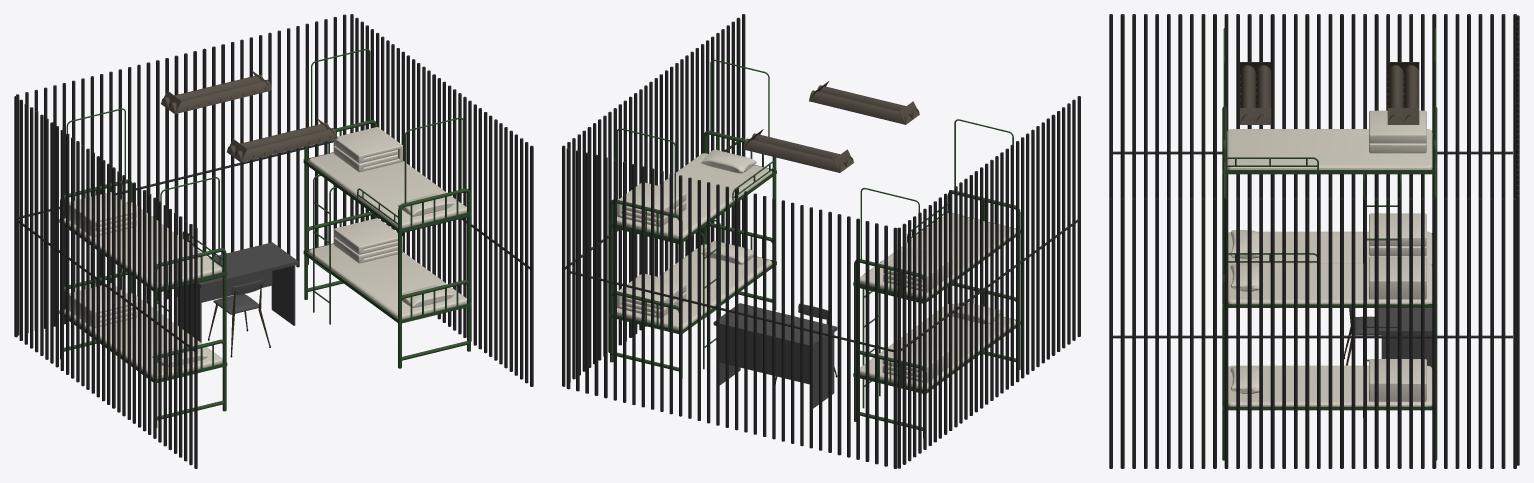
File: jianyv.FBX
3 renders of one model, left to right at view 1: azimuth 30°, elevation 25°; view 2: azimuth 150°, elevation 25°; view 3: azimuth 270°, elevation 25°, orthographic. The views are drawn at different scales.
Visible parts, largest first — view 1: jianyu2:pCylinder72, jianyu2:pCylinder73, jianyu2:pCylinder71, jianyu2:1 (×4), jianyu2:polySurface230, jianyu2:polySurface238, jianyu2:polySurface228, jianyu2:polySurface242, jianyu2:polySurface241, jianyu2:polySurface226, jianyu2:polySurface240, jianyu2:polySurface216 (+1 smaller); view 2: jianyu2:pCylinder71, jianyu2:pCylinder72, jianyu2:pCylinder73, jianyu2:1 (×4), jianyu2:polySurface238, jianyu2:polySurface230, jianyu2:polySurface228, jianyu2:polySurface242, jianyu2:polySurface241, jianyu2:polySurface226, jianyu2:polySurface240, jianyu2:polySurface231; view 3: jianyu2:pCylinder73, jianyu2:pCylinder72, jianyu2:1 (×4), jianyu2:polySurface241, jianyu2:polySurface230, jianyu2:polySurface242, jianyu2:polySurface228, jianyu2:polySurface240, jianyu2:polySurface238, jianyu2:polySurface226, jianyu2:pCylinder71, jianyu2:polySurface231.
Boxes of the visible parts, x1,y1,x2,y2 form: jianyu2:pCylinder72: [14, 96, 197, 468]; jianyu2:pCylinder73: [350, 14, 533, 386]; jianyu2:pCylinder71: [16, 14, 346, 335]; jianyu2:1 (×4): [59, 48, 471, 427]; jianyu2:polySurface230: [308, 218, 466, 319]; jianyu2:polySurface238: [177, 242, 298, 342]; jianyu2:polySurface228: [308, 152, 466, 228]; jianyu2:polySurface242: [64, 283, 222, 379]; jianyu2:polySurface241: [64, 202, 222, 288]; jianyu2:polySurface226: [333, 127, 402, 172]; jianyu2:polySurface240: [69, 192, 136, 236]; jianyu2:polySurface216: [213, 279, 263, 314]; jianyu2:pCylinder71: [566, 148, 897, 468]; jianyu2:pCylinder72: [897, 96, 1080, 468]; jianyu2:pCylinder73: [562, 14, 745, 386]; jianyu2:1 (×4): [609, 59, 1020, 437]; jianyu2:polySurface238: [713, 303, 837, 408]; jianyu2:polySurface230: [617, 240, 772, 330]; jianyu2:polySurface228: [617, 153, 772, 239]; jianyu2:polySurface242: [860, 302, 1015, 389]; jianyu2:polySurface241: [860, 213, 1015, 298]; jianyu2:polySurface226: [617, 182, 686, 227]; jianyu2:polySurface240: [883, 247, 952, 292]; jianyu2:polySurface231: [701, 149, 756, 173]; jianyu2:pCylinder73: [1109, 198, 1516, 468]; jianyu2:pCylinder72: [1109, 14, 1516, 198]; jianyu2:1 (×4): [1222, 28, 1437, 460]; jianyu2:polySurface241: [1227, 129, 1432, 169]; jianyu2:polySurface230: [1228, 359, 1432, 406]; jianyu2:polySurface242: [1228, 213, 1432, 264]; jianyu2:polySurface228: [1228, 263, 1432, 304]; jianyu2:polySurface240: [1369, 110, 1426, 153]; jianyu2:polySurface238: [1378, 308, 1432, 366]; jianyu2:polySurface226: [1369, 256, 1426, 299]; jianyu2:pCylinder71: [1516, 15, 1519, 465]; jianyu2:polySurface231: [1230, 263, 1259, 291].
Size of the model in its own units: 417 by 295 by 390.
